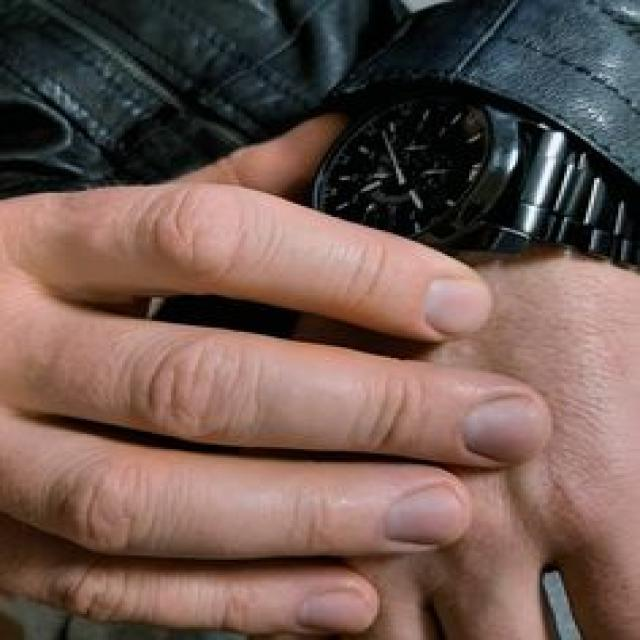Fingernail: (463, 397, 549, 463), (386, 486, 463, 544), (425, 279, 490, 334), (301, 591, 371, 631)
